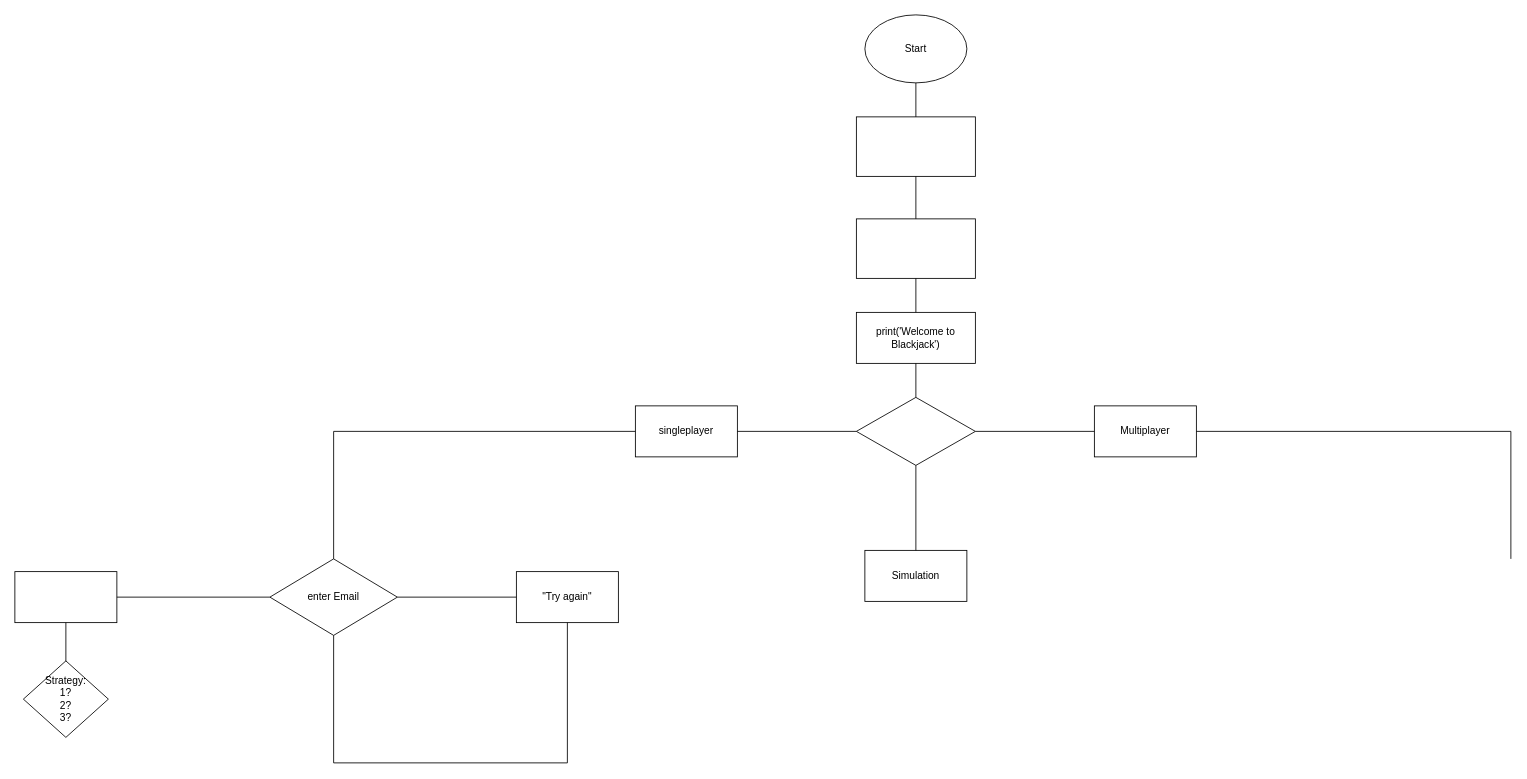
Image size: 1527x779. Some labels were removed from this diagram. Here are the shapes that lost their labels. From the top down, the centre of each, then its label:
point 915,146: Initialize Card List And Variables
point 915,248: Create All Functions
point 915,431: Input Game Mode
point 65,597: ""Email successful"
